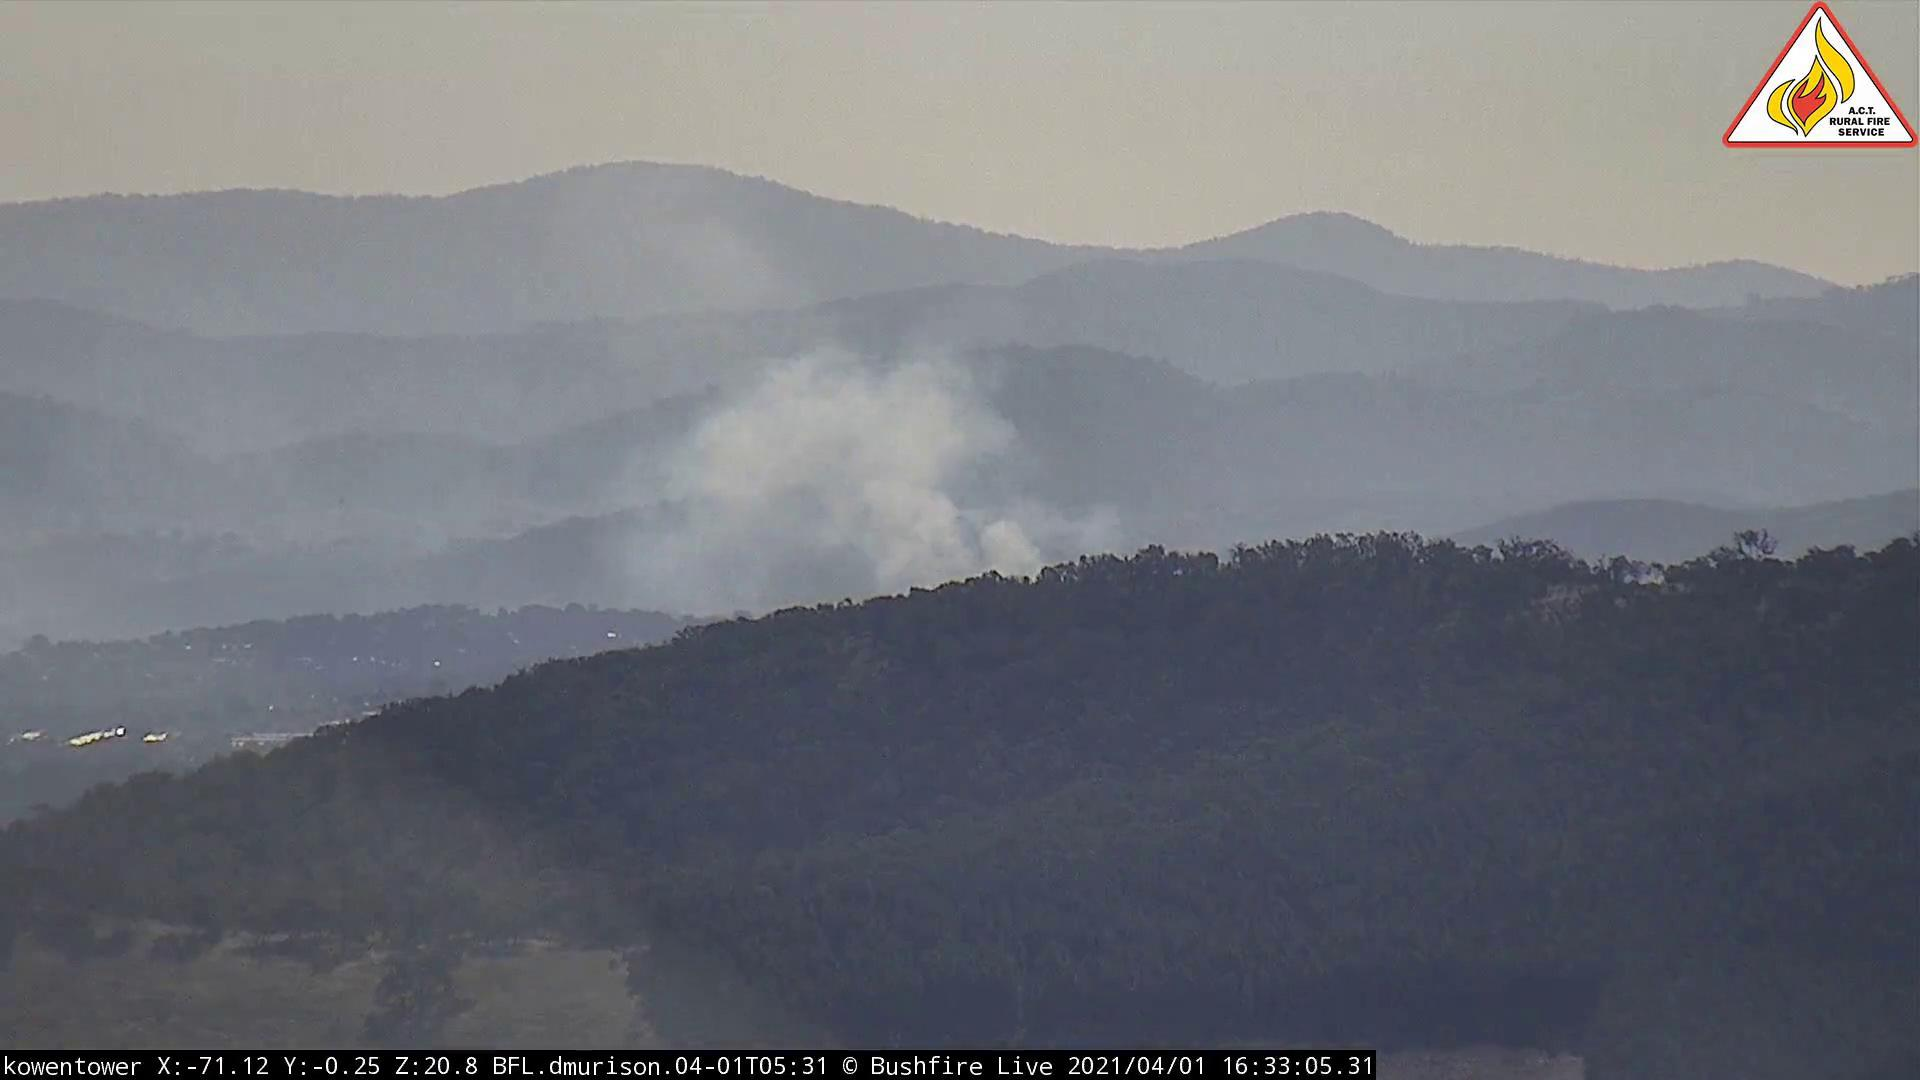Smoke: (585, 338, 1180, 642)
